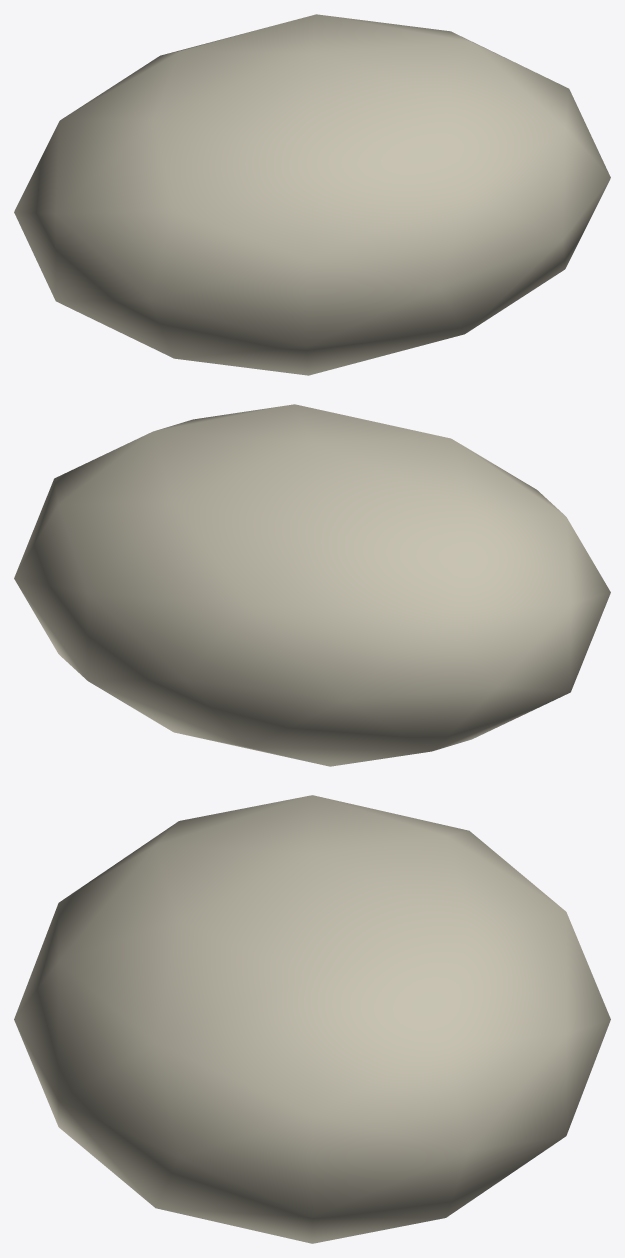
Rendered from rock.glb.
The picture shows the model from 3 angles, top to bottom: view 1: azimuth 30°, elevation 25°; view 2: azimuth 150°, elevation 25°; view 3: azimuth 270°, elevation 25°; orthographic projection. The views are drawn at different scales.
Parts seen in each view (by area): view 1: rock.001; view 2: rock.001; view 3: rock.001.
Part boxes in pixels (<box>): rock.001: <box>14,14,610,375</box>; rock.001: <box>14,404,610,766</box>; rock.001: <box>14,795,610,1243</box>.
Size of the model in its own units: 2.09 by 1.1 by 1.8.
